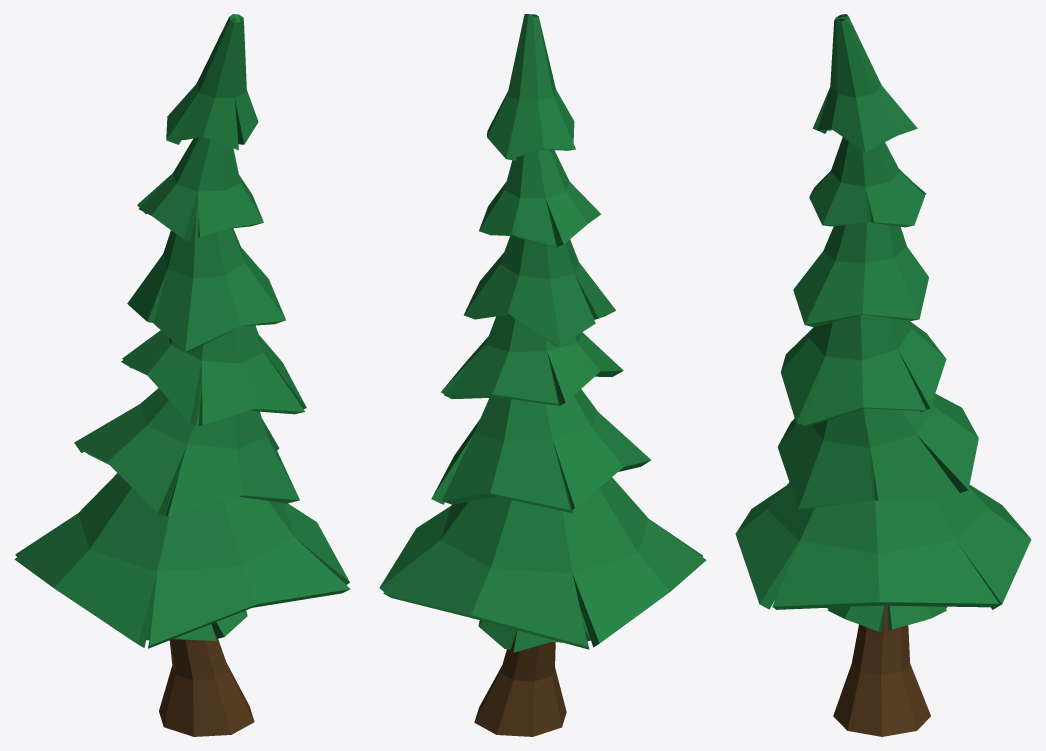
The model's file is spruce-tree.glb.
3 views of the same model, side by side, from view 1: azimuth 30°, elevation 25°; view 2: azimuth 150°, elevation 25°; view 3: azimuth 270°, elevation 25° (orthographic). The views are drawn at different scales.
Parts seen in each view (by area): view 1: Circle.017; view 2: Circle.017; view 3: Circle.017.
Boxes of the visible parts, left/top/right/bottom form: Circle.017: left=14, top=14, right=350, bottom=736; Circle.017: left=379, top=14, right=706, bottom=736; Circle.017: left=735, top=14, right=1031, bottom=736.
Size of the model in its own units: 141 by 364 by 139.
